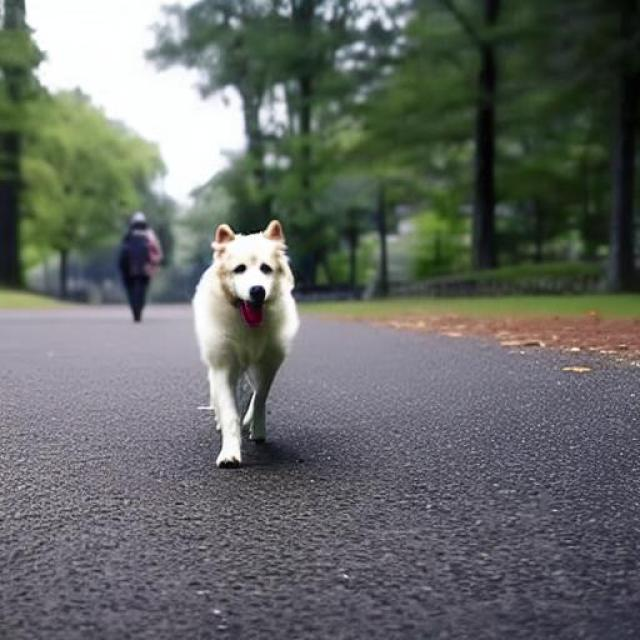Dog: (192, 220, 300, 470)
